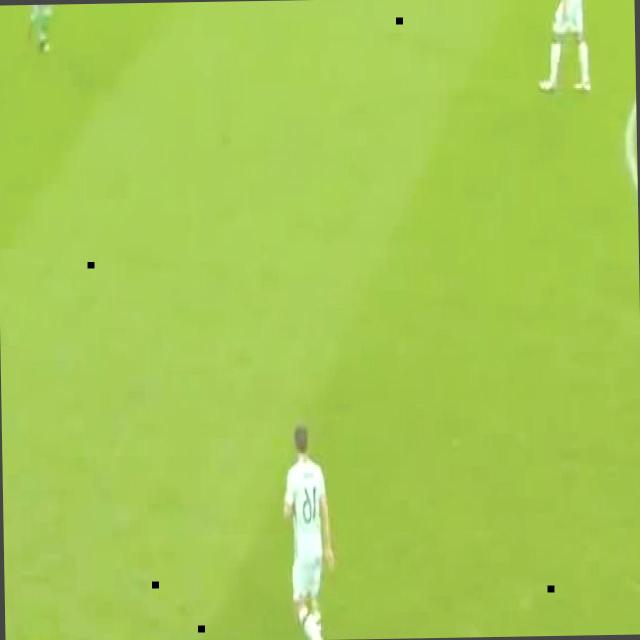player-white: (282, 424, 334, 640), (537, 0, 590, 94), (24, 4, 60, 54)
